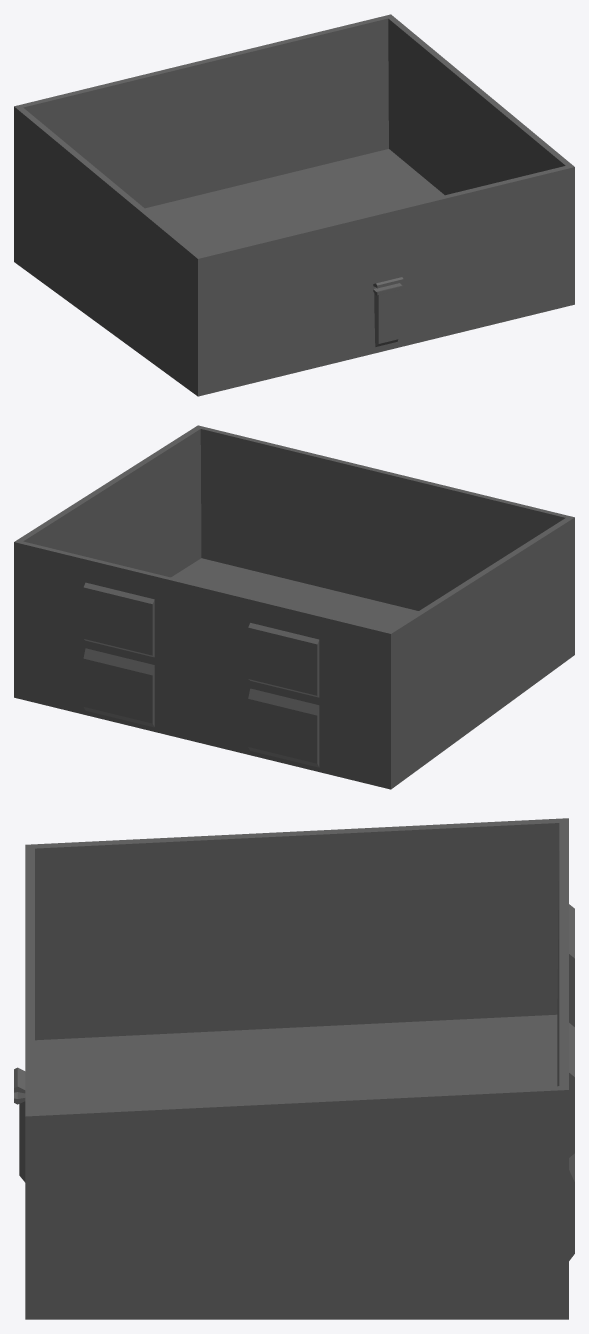
Rendered from MetalAmmoBoxV1_Large.glb.
The picture shows the model from 3 angles, top to bottom: view 1: azimuth 30°, elevation 25°; view 2: azimuth 150°, elevation 25°; view 3: azimuth 270°, elevation 25°; orthographic projection. The views are drawn at different scales.
Visible parts, largest first — view 1: MetalAmmoBoxV1_Large; view 2: MetalAmmoBoxV1_Large; view 3: MetalAmmoBoxV1_Large.
Boxes of the visible parts, x1,y1,x2,y2 form: MetalAmmoBoxV1_Large: [14, 14, 574, 396]; MetalAmmoBoxV1_Large: [14, 425, 574, 789]; MetalAmmoBoxV1_Large: [14, 818, 574, 1319].
Bounding box in the file's own units: 0.3402 × 0.1342 × 0.2968.
Materials: 1 (1 with a texture image).
